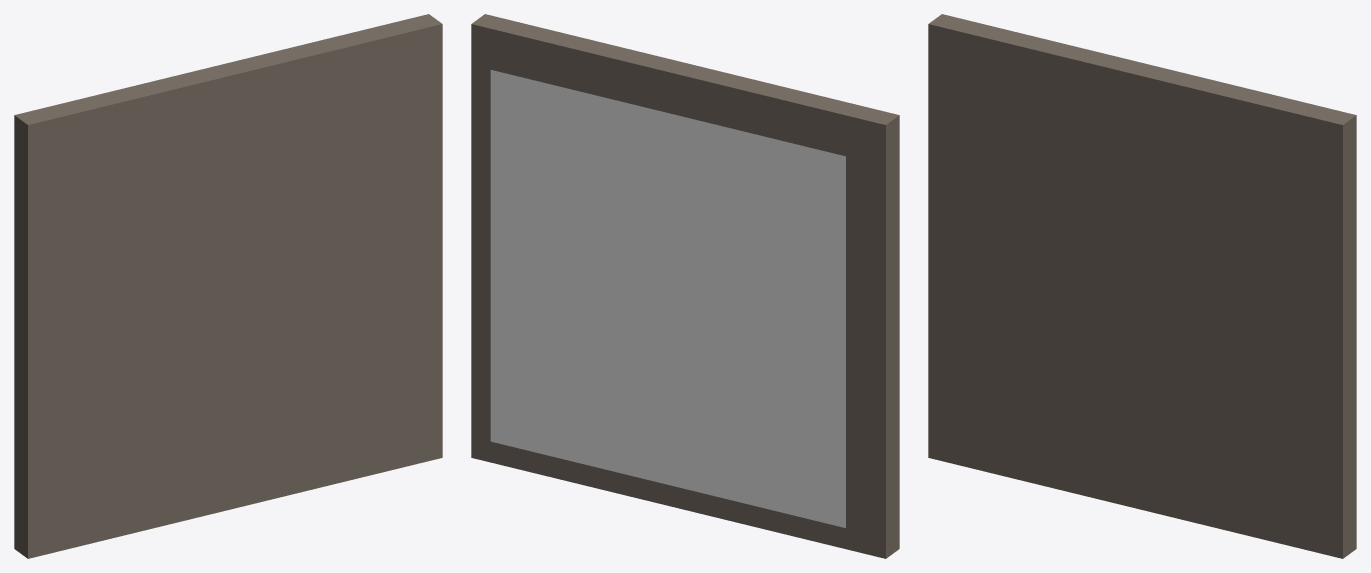
File: frame_map.glb
3 renders of one model, left to right at view 1: azimuth 30°, elevation 25°; view 2: azimuth 150°, elevation 25°; view 3: azimuth 330°, elevation 25°, orthographic.
Parts seen in each view (by area): view 1: Frame; view 2: Picture, Frame; view 3: Frame.
Part boxes in pixels (<box>): Frame: <box>14,14,442,558</box>; Picture: <box>490,70,845,527</box>; Frame: <box>471,14,899,558</box>; Frame: <box>928,14,1356,558</box>.
Size of the model in its own units: 0.7 by 0.7 by 0.07.
